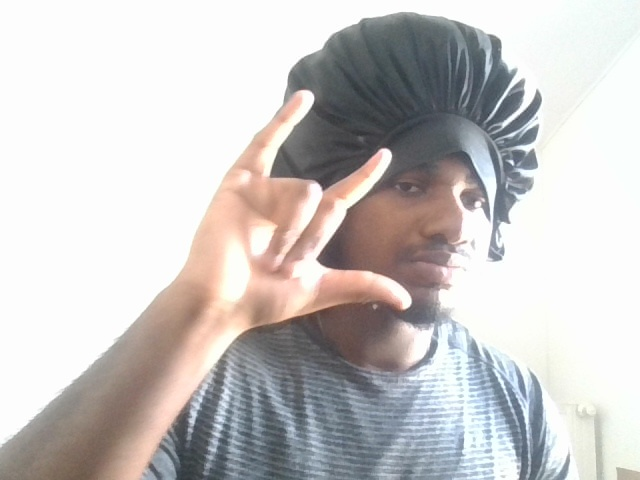I Love You: (147, 78, 411, 328)
